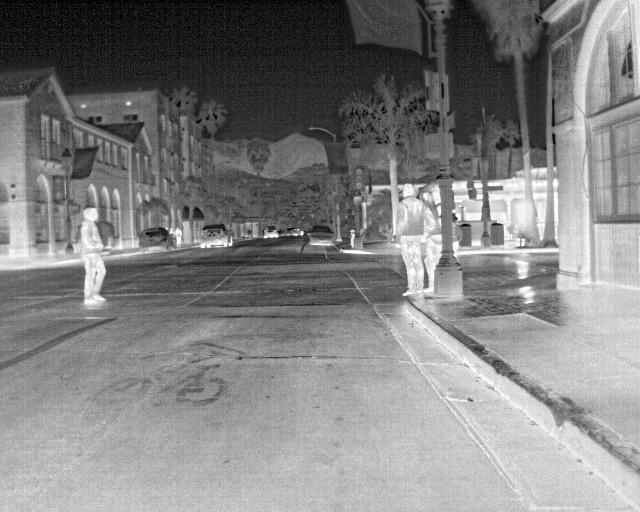bicycle: (138, 226, 177, 255), (198, 221, 233, 249), (306, 223, 337, 250), (261, 225, 279, 240)
empty: (392, 181, 438, 298), (79, 206, 111, 305), (419, 188, 442, 296)
